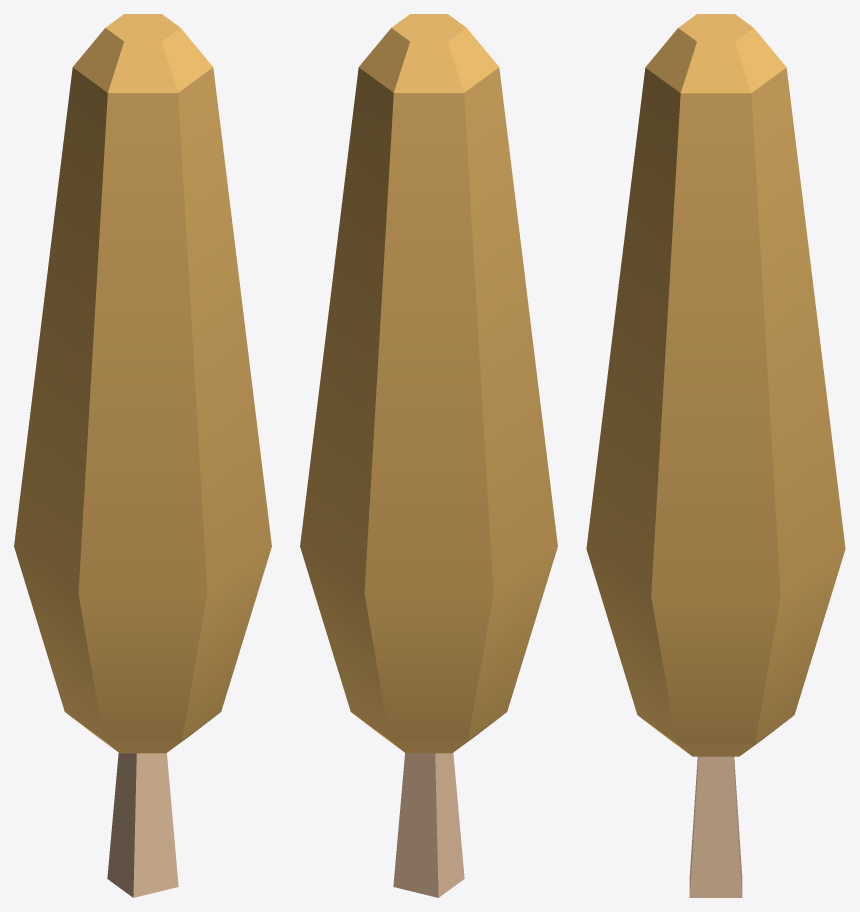
File: tree_tall_fall.gltf
3 renders of one model, left to right at view 1: azimuth 30°, elevation 25°; view 2: azimuth 150°, elevation 25°; view 3: azimuth 270°, elevation 25°, orthographic.
Visible parts, largest first — view 1: tree_tall_fall; view 2: tree_tall_fall; view 3: tree_tall_fall.
Boxes of the visible parts, x1=… form: tree_tall_fall: x1=14, y1=14, x2=271, y2=897; tree_tall_fall: x1=300, y1=14, x2=557, y2=897; tree_tall_fall: x1=586, y1=14, x2=845, y2=897.
Size of the model in its own units: 0.3996 by 1.69 by 0.4614.
